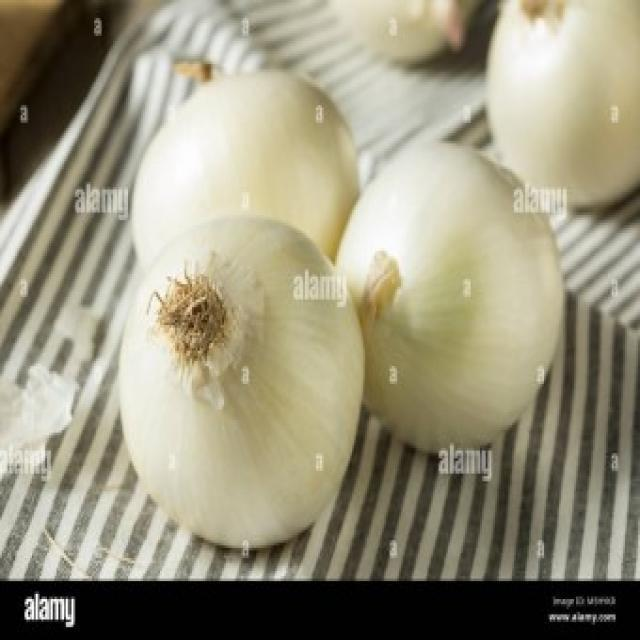onion: (132, 221, 378, 555), (348, 161, 574, 430), (140, 58, 373, 256), (487, 2, 640, 189)
